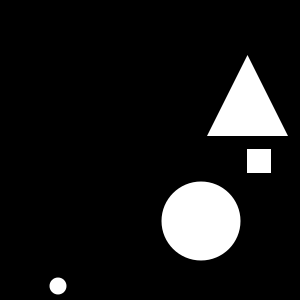circle: (247, 149, 271, 173)
rectangle: (162, 182, 241, 260), (50, 278, 66, 294)
triangle: (207, 55, 288, 136)
